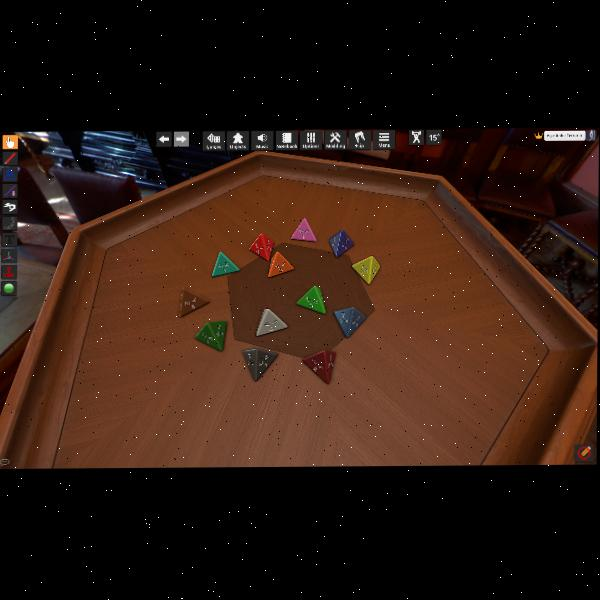d4: (243, 347, 279, 381), (333, 305, 366, 338), (302, 350, 334, 384), (256, 307, 289, 337), (194, 320, 225, 351), (179, 286, 208, 317), (351, 255, 379, 284), (297, 286, 324, 314), (211, 251, 239, 277), (269, 250, 295, 277), (251, 233, 275, 261), (329, 229, 352, 258), (291, 218, 316, 242)
